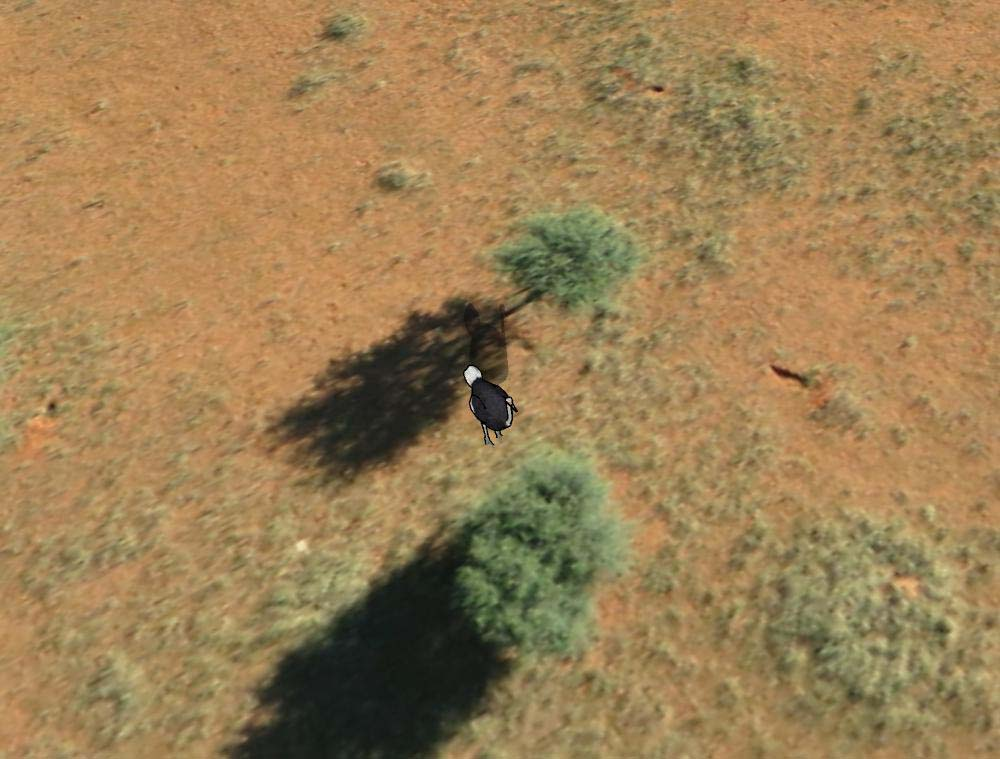springbok: (460, 364, 522, 442)
